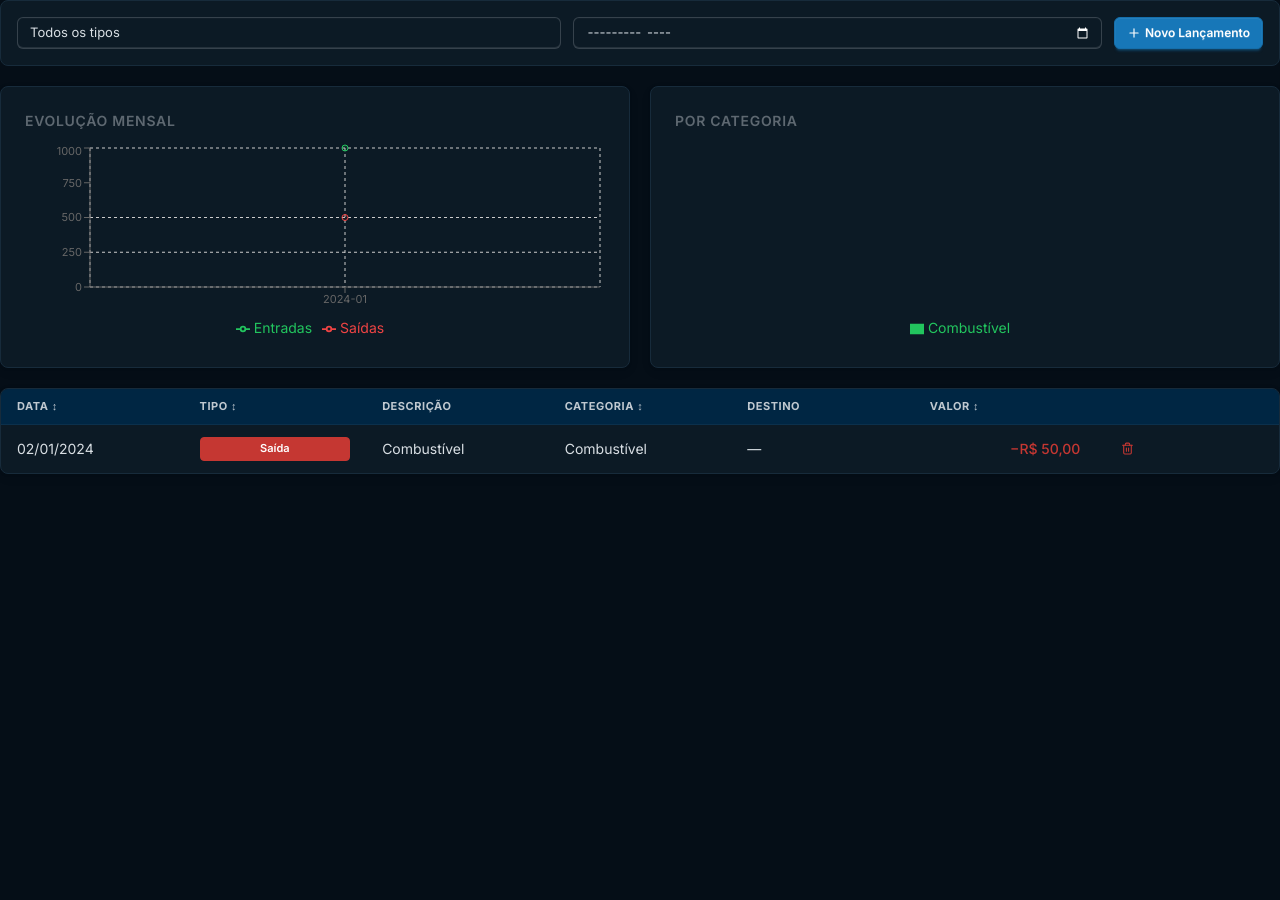
Scenario: FinancialPage — DataTable › abre confirmação de exclusão ao clicar no botão de excluir
Click the button titled "Excluir" at coordinates (1128, 449), box [1112,437,1143,461]
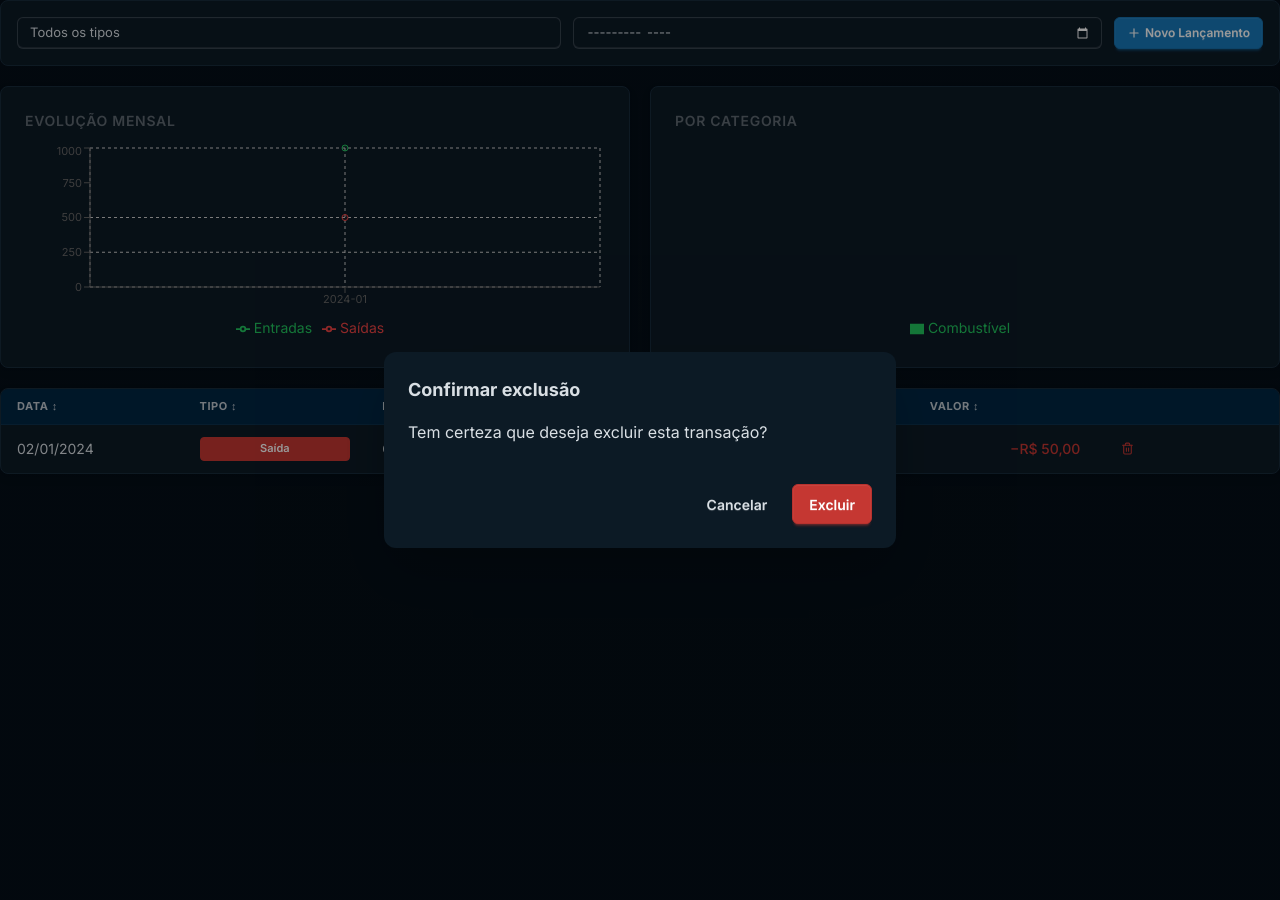
Expected: the heading "Confirmar exclusão" is shown, [408,379,580,400]
